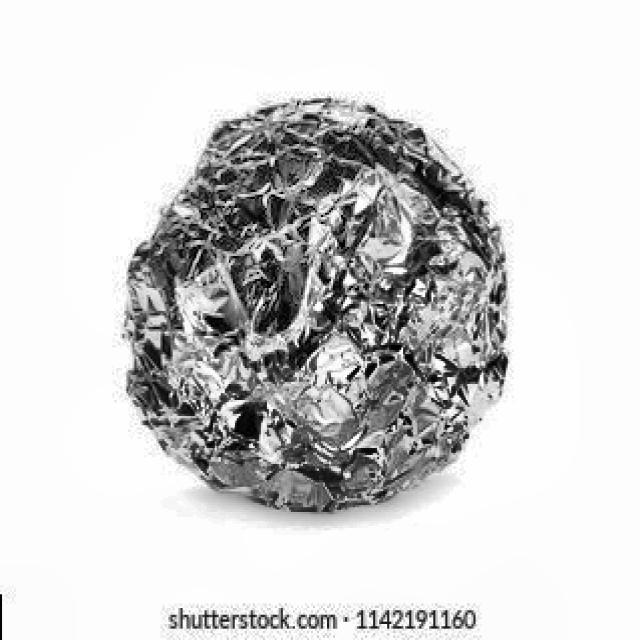Foil: (64, 69, 541, 534)
